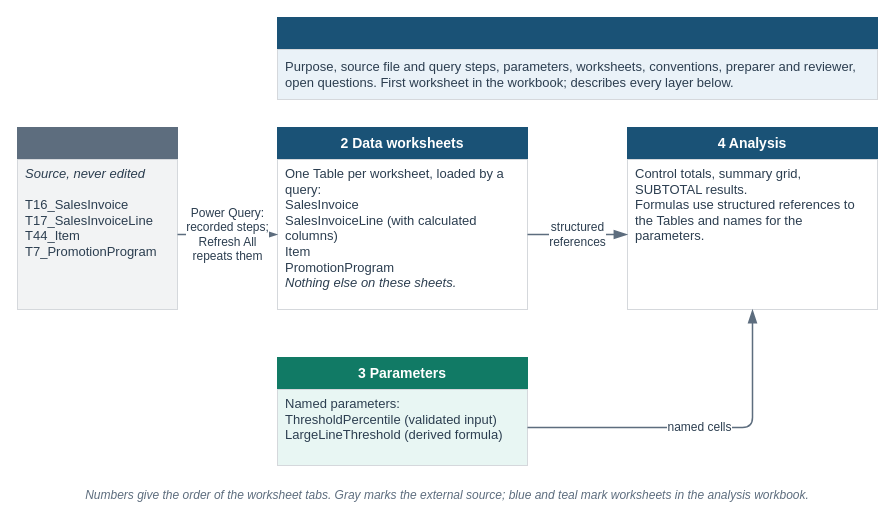
The diagram is 895 pixels wide and 521 high, and some of its shapes have lost their labels. The shapes that lost their labels are listed below. From the top down, each one's centre as x and y in pixels, then its label:
At pixel 577 33: "1 Documentation".
At pixel 97 143: "CharlesRiver.xlsx".
